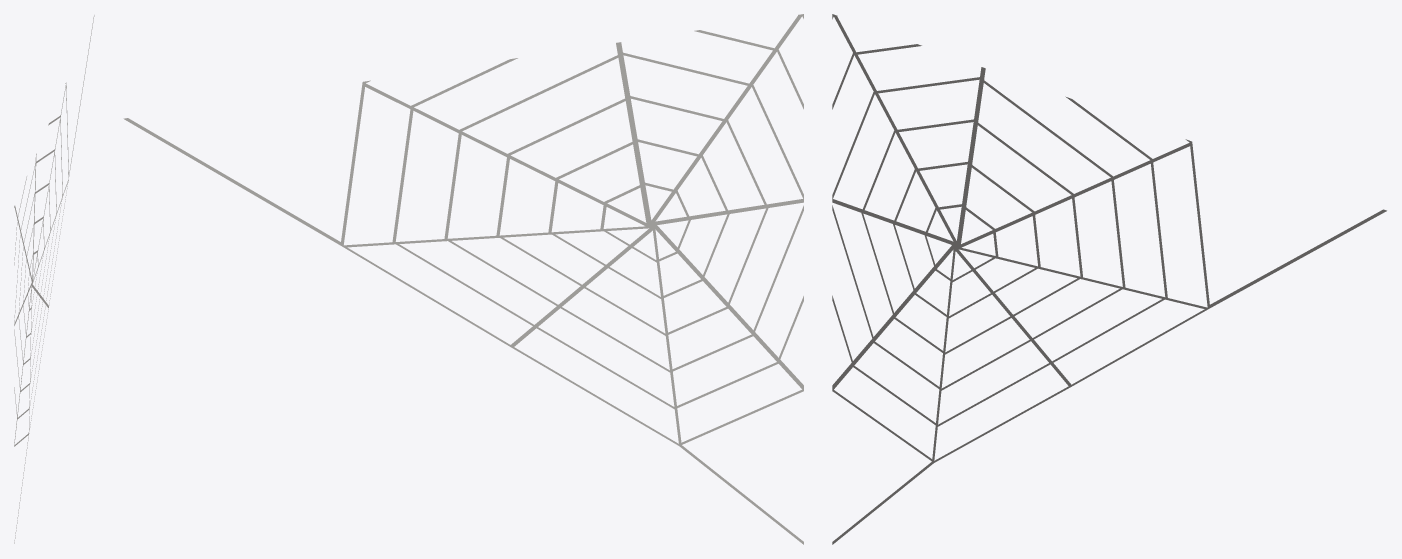
The model's file is kd_stage_135ded_4_78_bounded_piece_11.glb.
3 views of the same model, side by side, from view 1: azimuth 30°, elevation 25°; view 2: azimuth 150°, elevation 25°; view 3: azimuth 270°, elevation 25° (orthographic). The views are drawn at different scales.
Parts seen in each view (by area): view 1: kd_stage_135ded_4_78_bounded_piece_11; view 2: kd_stage_135ded_4_78_bounded_piece_11; view 3: kd_stage_135ded_4_78_bounded_piece_11.
Boxes of the visible parts, left/top/right/bottom form: kd_stage_135ded_4_78_bounded_piece_11: left=14, top=15, right=94, bottom=543; kd_stage_135ded_4_78_bounded_piece_11: left=123, top=14, right=803, bottom=544; kd_stage_135ded_4_78_bounded_piece_11: left=832, top=14, right=1386, bottom=544.
Bounding box in the file's own units: 0.3373 × 0.4244 × 0.402.
Materials: 1 (1 with a texture image).
